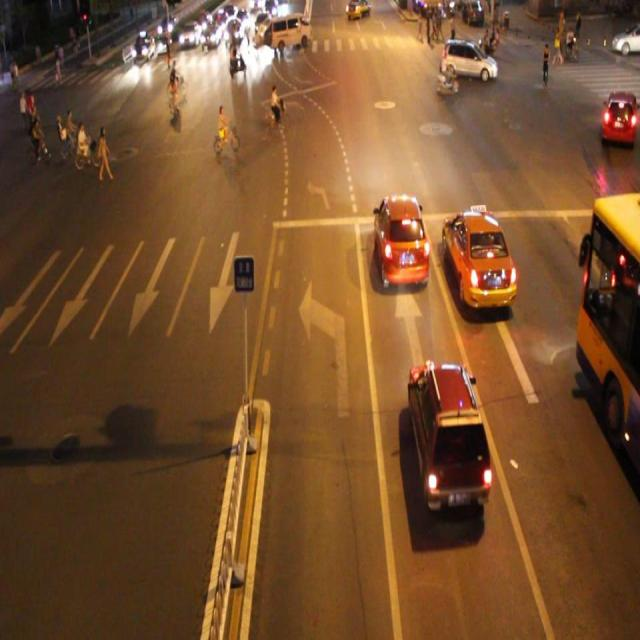car: (406, 361, 491, 508), (440, 204, 518, 308), (373, 192, 429, 288)
truck: (441, 35, 495, 80), (269, 12, 312, 50)
van: (574, 192, 640, 466)
